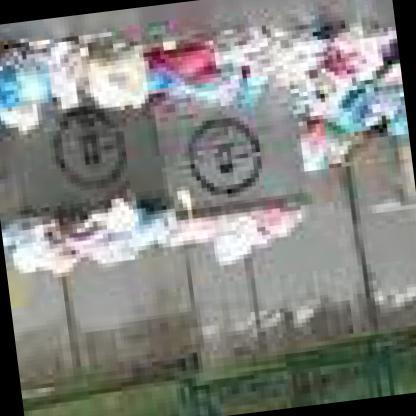Garbage: (290, 13, 408, 170), (0, 21, 165, 118), (149, 20, 317, 102), (9, 205, 176, 278), (176, 199, 314, 262)
